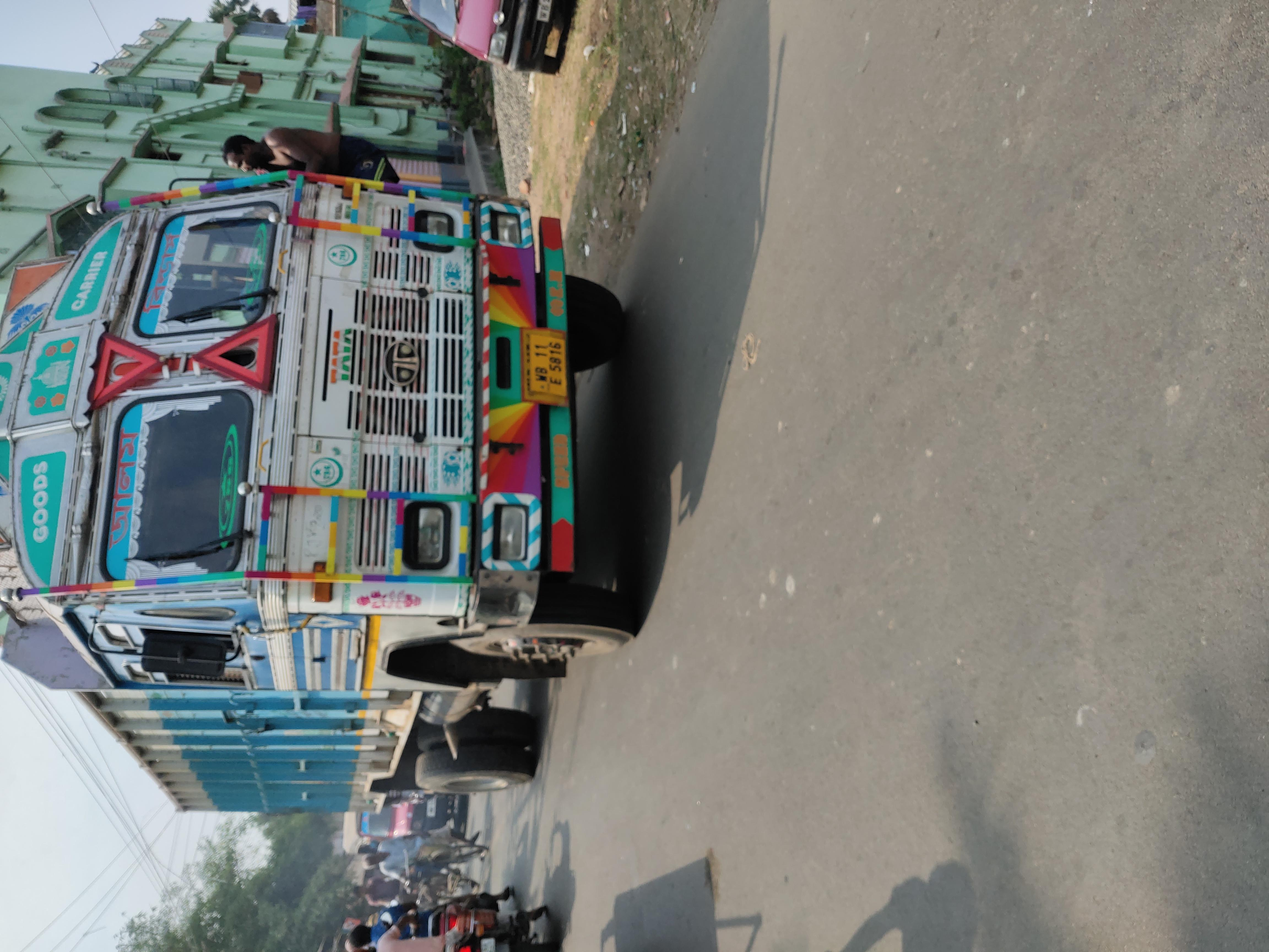license plate: (739, 397, 826, 426)
